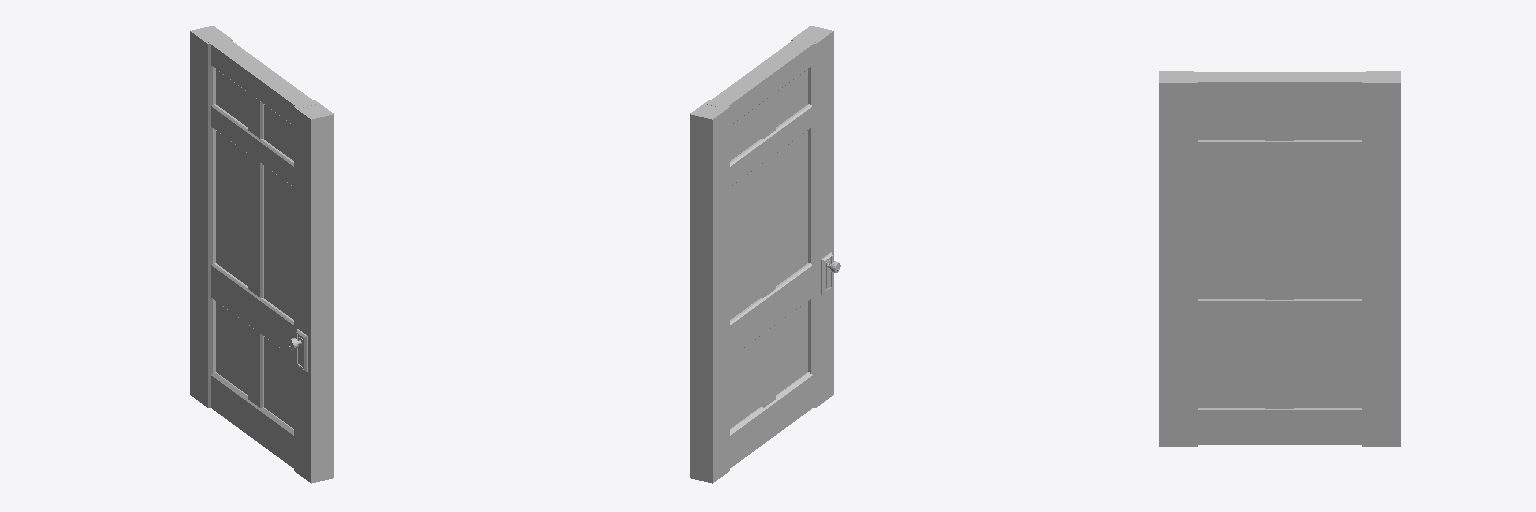
Rendered from SM_Door_001.obj.
3 renders of one model, left to right at view 1: azimuth 30°, elevation 25°; view 2: azimuth 150°, elevation 25°; view 3: azimuth 270°, elevation 25°, orthographic.
Parts seen in each view (by area): view 1: group42; view 2: group42; view 3: group42.
Part boxes in pixels (bbox=[...]): group42: bbox=[190, 26, 333, 483]; group42: bbox=[690, 26, 840, 483]; group42: bbox=[1159, 71, 1400, 446].
Bounding box in the file's own units: 23.44 × 230 × 138.